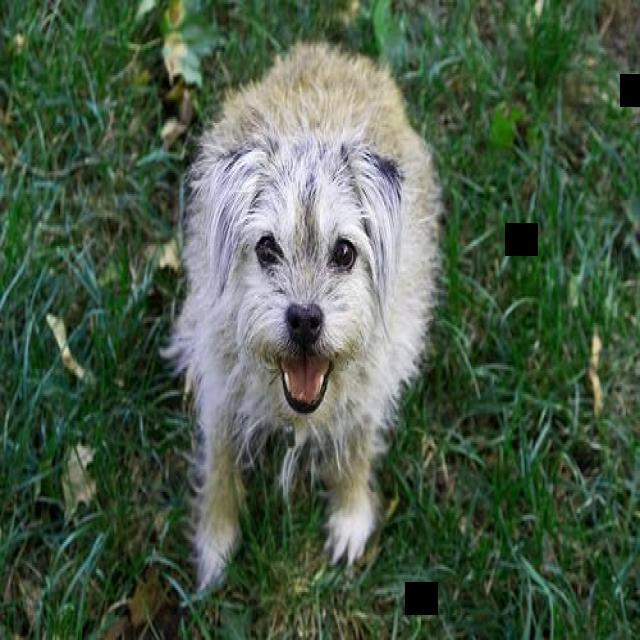adult_dog: (163, 40, 443, 601)
